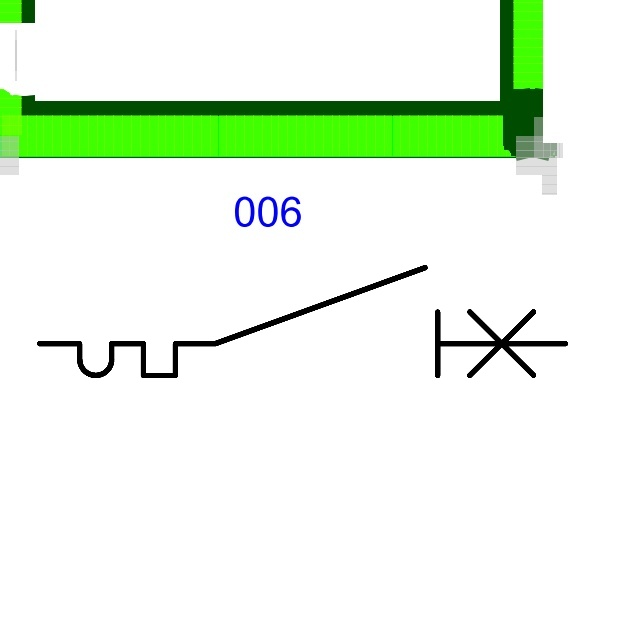interruptor_termomagnetico: (26, 254, 578, 389)
